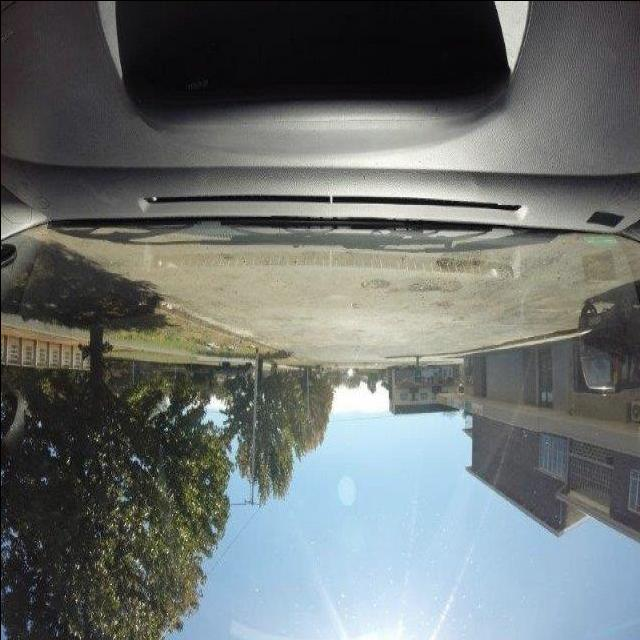lubang: (432, 255, 492, 273), (404, 280, 461, 298), (356, 280, 389, 294)
